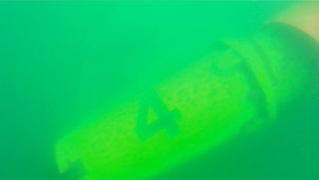4: (137, 92, 180, 137)
leak: (259, 1, 319, 44)
pipe: (54, 25, 319, 180)
